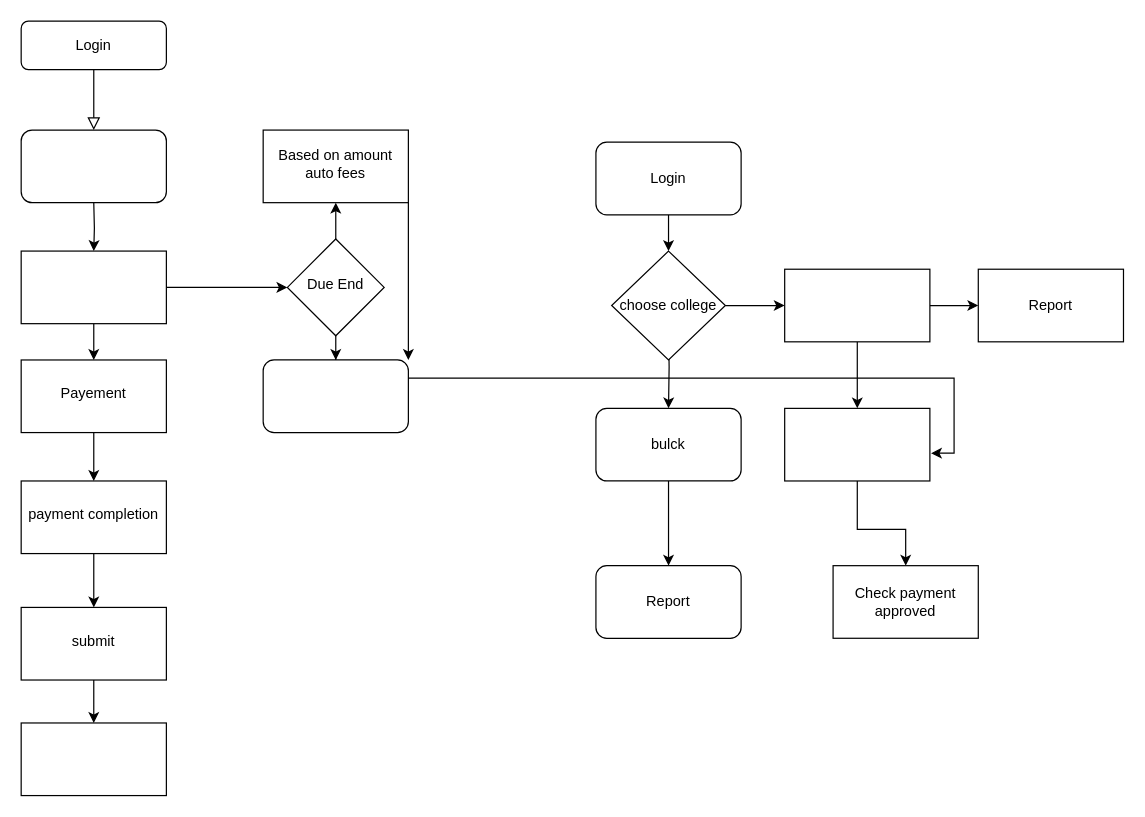
Some shapes in this 1145 by 817 pixel diagram are drawn without their labels. Each missing label, with the centre of its shape:
End: the point at 93,759
Fees List: the point at 93,166
Manual Fee paymnet: the point at 856,444
No.of.Terms: the point at 93,287
Scan Payment: the point at 335,396
student: the point at 856,305
